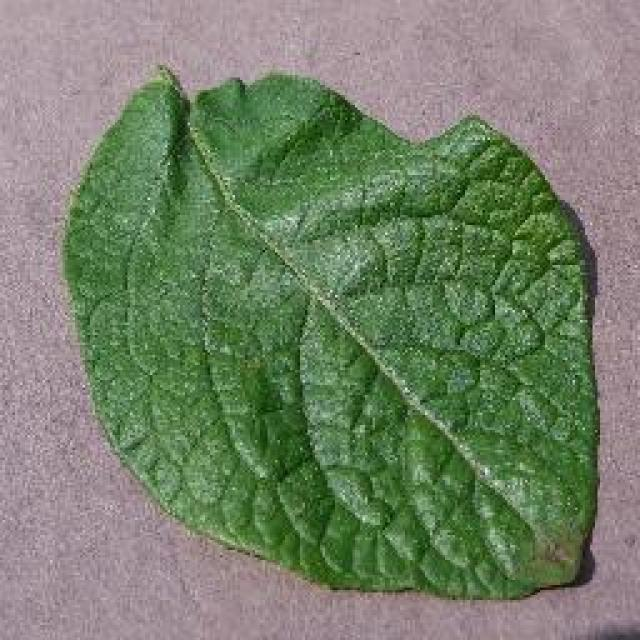Potato___healthy: (59, 75, 600, 601)
